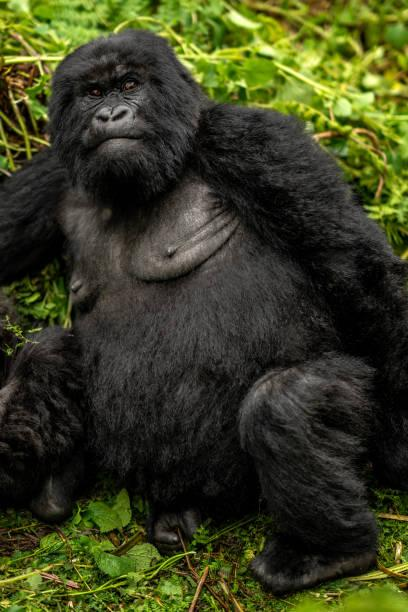goriile_montagne: (2, 30, 408, 580)
